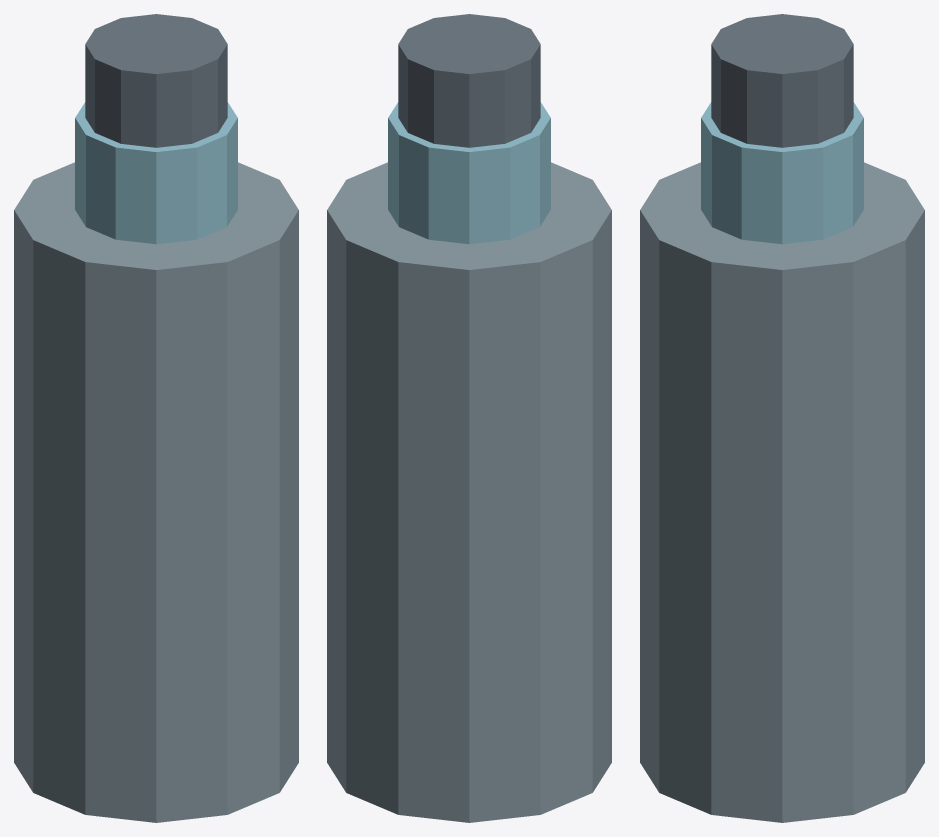
File: thermos.glb
The picture shows the model from 3 angles, left to right: view 1: azimuth 30°, elevation 25°; view 2: azimuth 150°, elevation 25°; view 3: azimuth 270°, elevation 25°; orthographic projection.
Parts seen in each view (by area): view 1: thermos_000, thermos_002, thermos_001; view 2: thermos_000, thermos_002, thermos_001; view 3: thermos_000, thermos_002, thermos_001.
Boxes of the visible parts, box(x1,y1,x2,y2) form: thermos_000: box(14, 162, 298, 822); thermos_002: box(85, 14, 227, 147); thermos_001: box(75, 102, 237, 244); thermos_000: box(327, 162, 611, 822); thermos_002: box(398, 14, 540, 147); thermos_001: box(388, 102, 550, 244); thermos_000: box(640, 162, 924, 822); thermos_002: box(711, 14, 853, 147); thermos_001: box(701, 102, 863, 244).
Bounding box in the file's own units: 0.14 × 0.39 × 0.14.
